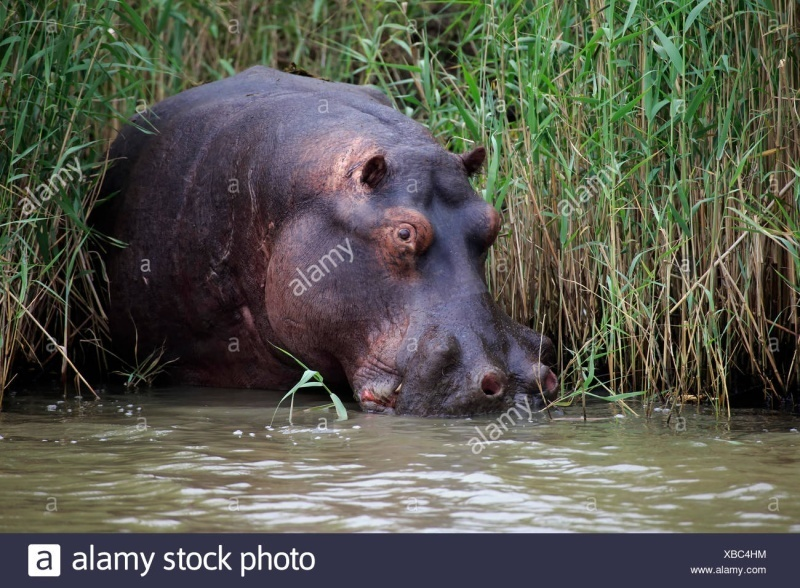hipopotamo: (86, 57, 591, 450)
